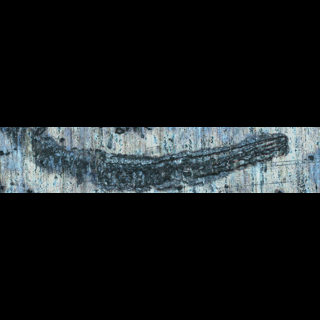d: (6, 129, 292, 193)
